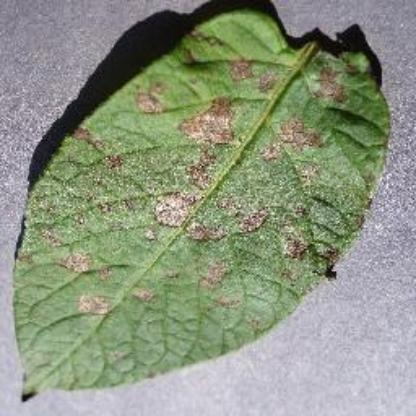Early-Blight: (11, 5, 393, 403)
